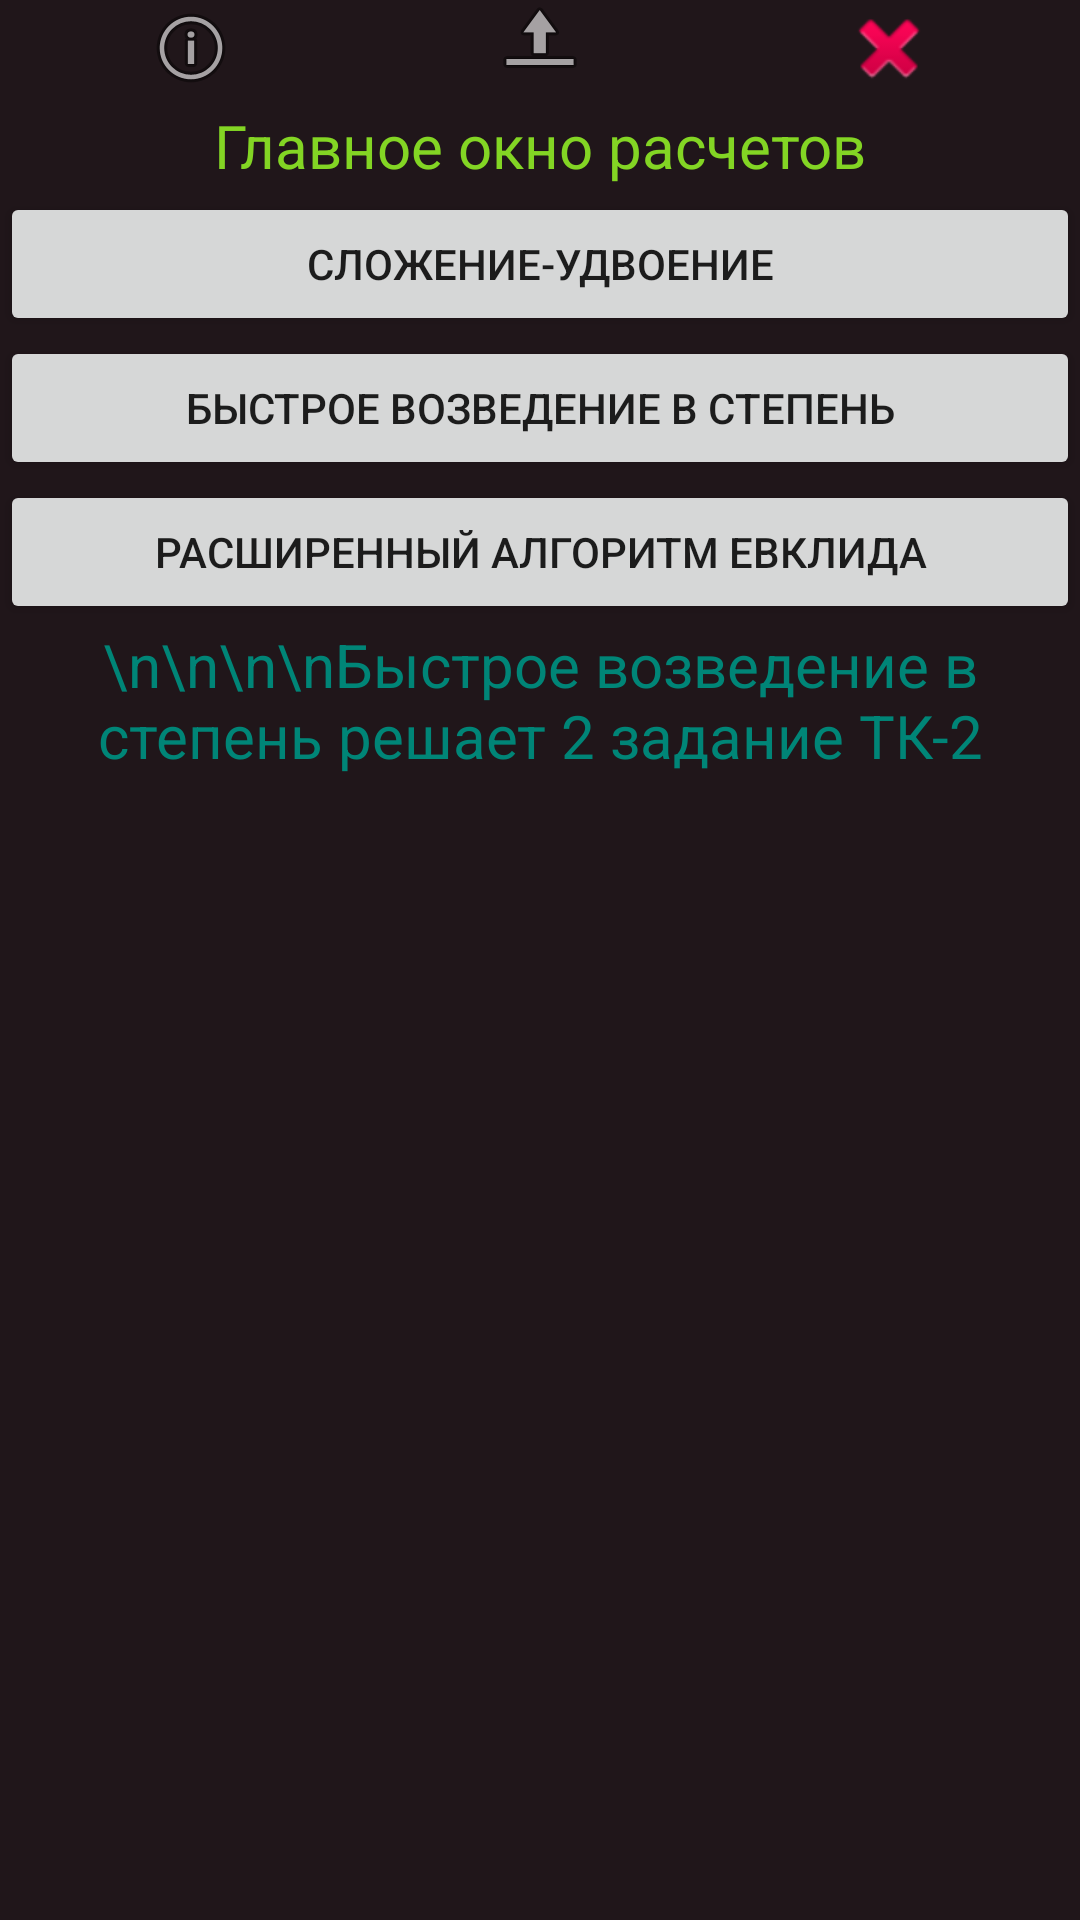

Screen size 1080px x 1920px. Icon name, then its center in pixels as (x,y):
delete: (889,48)
info details: (191,48)
